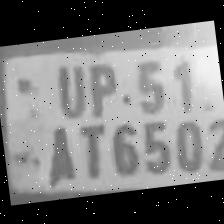0: (165, 110, 205, 175)
1: (164, 49, 202, 111)
2: (198, 108, 224, 174)
5: (127, 52, 169, 115), (134, 112, 172, 176)
6: (102, 114, 142, 180)
A: (36, 117, 79, 185)
P: (81, 56, 121, 116)
T: (69, 116, 109, 180)
U: (46, 56, 88, 119)
